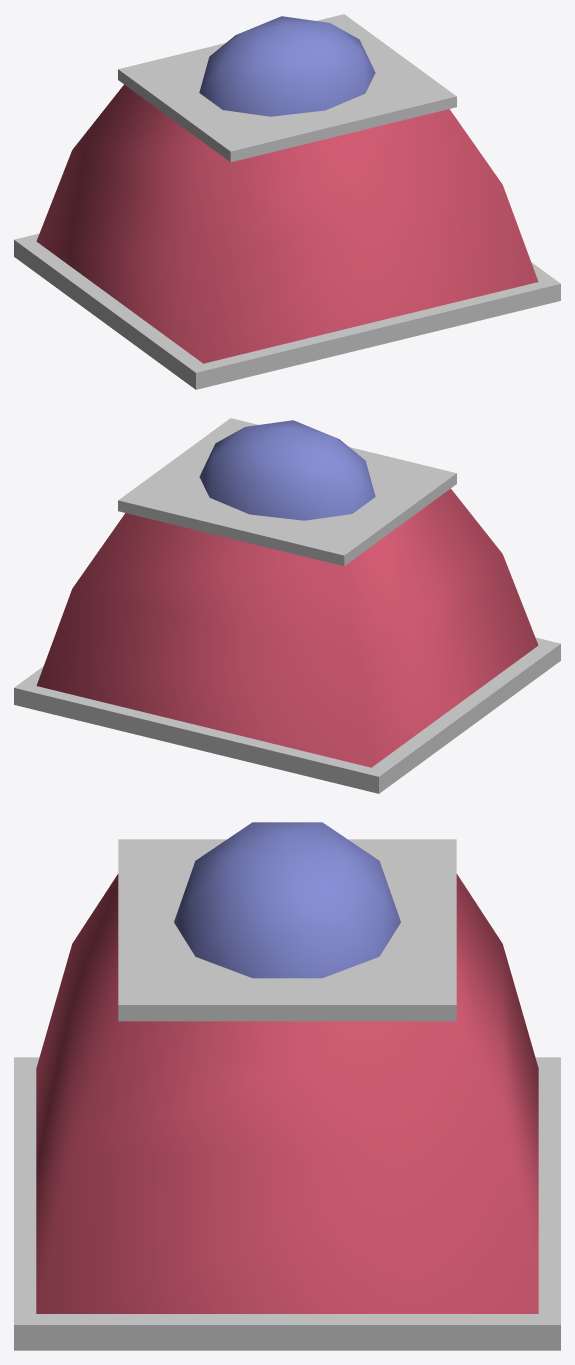
Rendered from test_opacity.dae.
The picture shows the model from 3 angles, top to bottom: view 1: azimuth 30°, elevation 25°; view 2: azimuth 150°, elevation 25°; view 3: azimuth 270°, elevation 25°; orthographic projection. The views are drawn at different scales.
Visible parts, largest first — view 1: Transcube, Nontrans, Transball; view 2: Transcube, Nontrans, Transball; view 3: Transcube, Nontrans, Transball.
Boxes of the visible parts, bbox=[...] form: Transcube: bbox=[36, 84, 538, 363]; Nontrans: bbox=[14, 14, 560, 389]; Transball: bbox=[199, 16, 375, 116]; Transcube: bbox=[36, 488, 538, 767]; Nontrans: bbox=[14, 418, 560, 793]; Transball: bbox=[199, 420, 375, 520]; Transcube: bbox=[36, 874, 538, 1313]; Nontrans: bbox=[14, 839, 560, 1350]; Transball: bbox=[174, 822, 400, 978].
Bounding box in the file's own units: 7.09 × 6.12 × 4.72.
